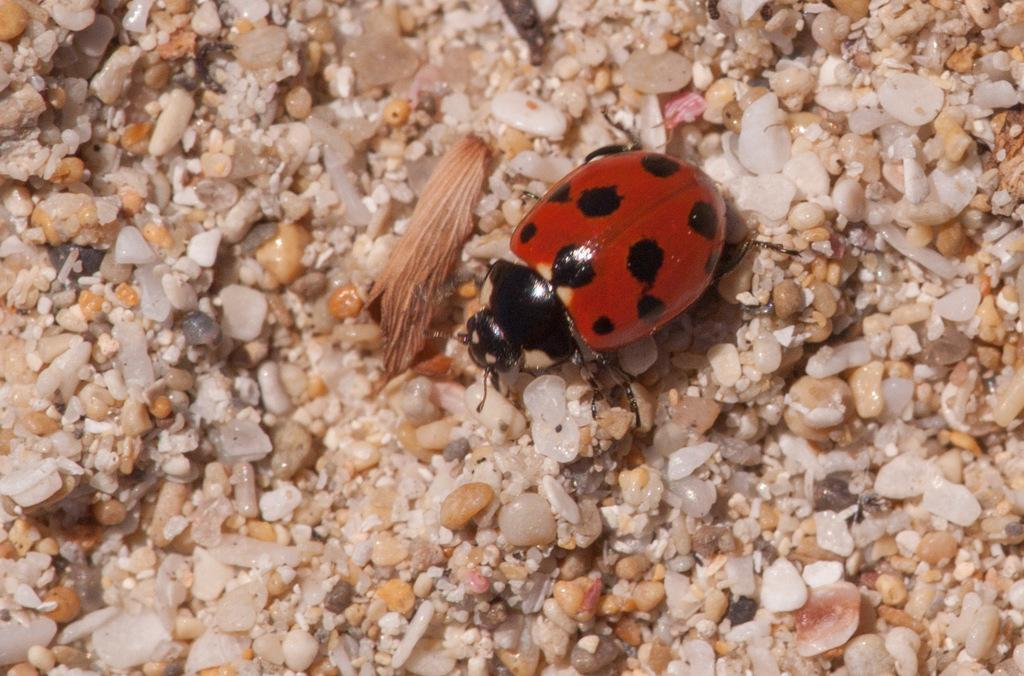ladybug: (433, 141, 733, 429)
